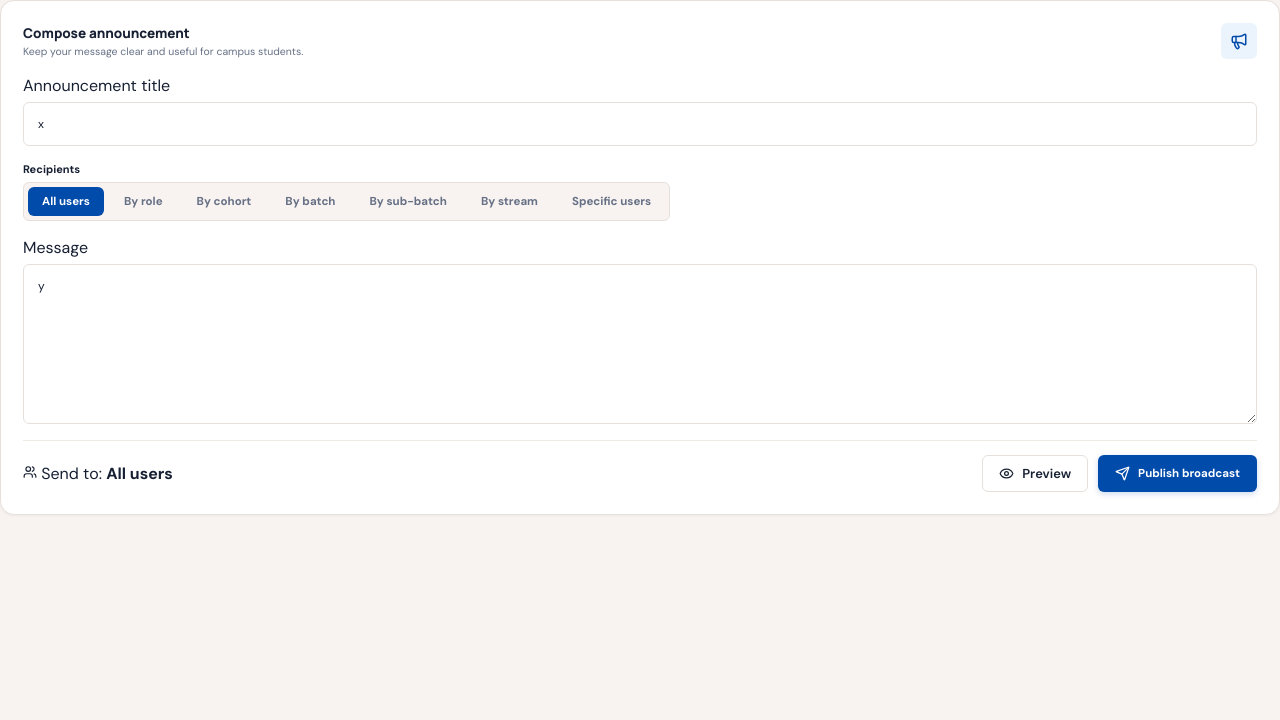
Test: BroadcastForm — preview modal › shows the untitled/no-message placeholders for an empty draft
Click the button "Preview" at [1035, 474], box [982,455,1088,492]
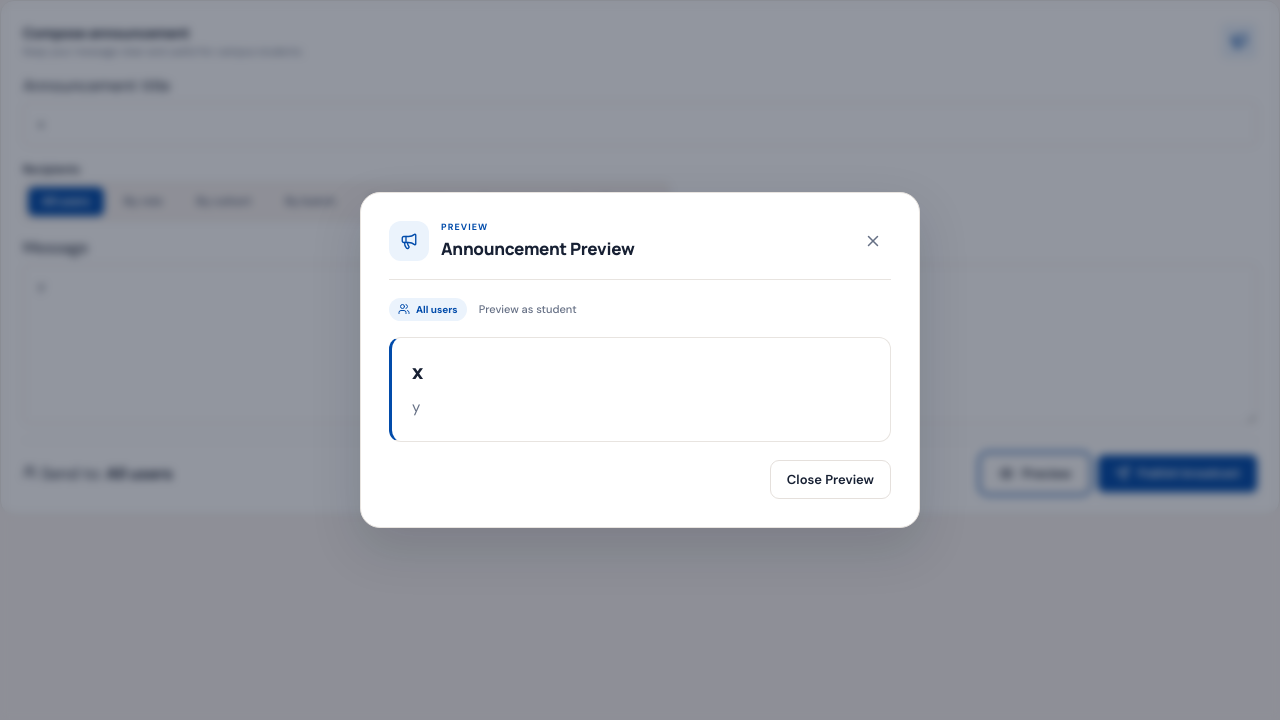
Expected: the text "All users" is shown, [389,298,467,321]
